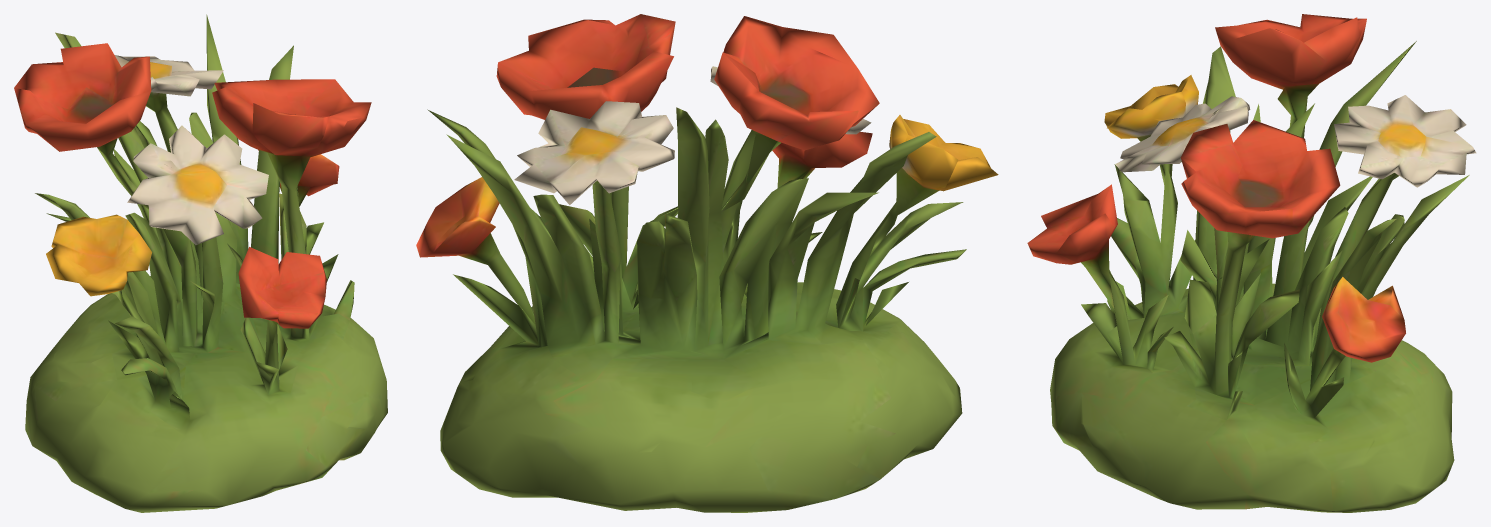
File: flowers.glb
3 views of the same model, side by side, from view 1: azimuth 30°, elevation 25°; view 2: azimuth 150°, elevation 25°; view 3: azimuth 270°, elevation 25° (orthographic). The views are drawn at different scales.
Parts seen in each view (by area): view 1: tripo_node_4a3ff06f-47f0-4119-a973-63888d9a791c; view 2: tripo_node_4a3ff06f-47f0-4119-a973-63888d9a791c; view 3: tripo_node_4a3ff06f-47f0-4119-a973-63888d9a791c.
Boxes of the visible parts, x1,y1,x2,y2 form: tripo_node_4a3ff06f-47f0-4119-a973-63888d9a791c: (14, 14, 387, 512); tripo_node_4a3ff06f-47f0-4119-a973-63888d9a791c: (416, 14, 998, 512); tripo_node_4a3ff06f-47f0-4119-a973-63888d9a791c: (1027, 14, 1476, 512).
Bounding box in the file's own units: 1 × 0.9347 × 0.9851.
Materials: 1 (1 with a texture image).
